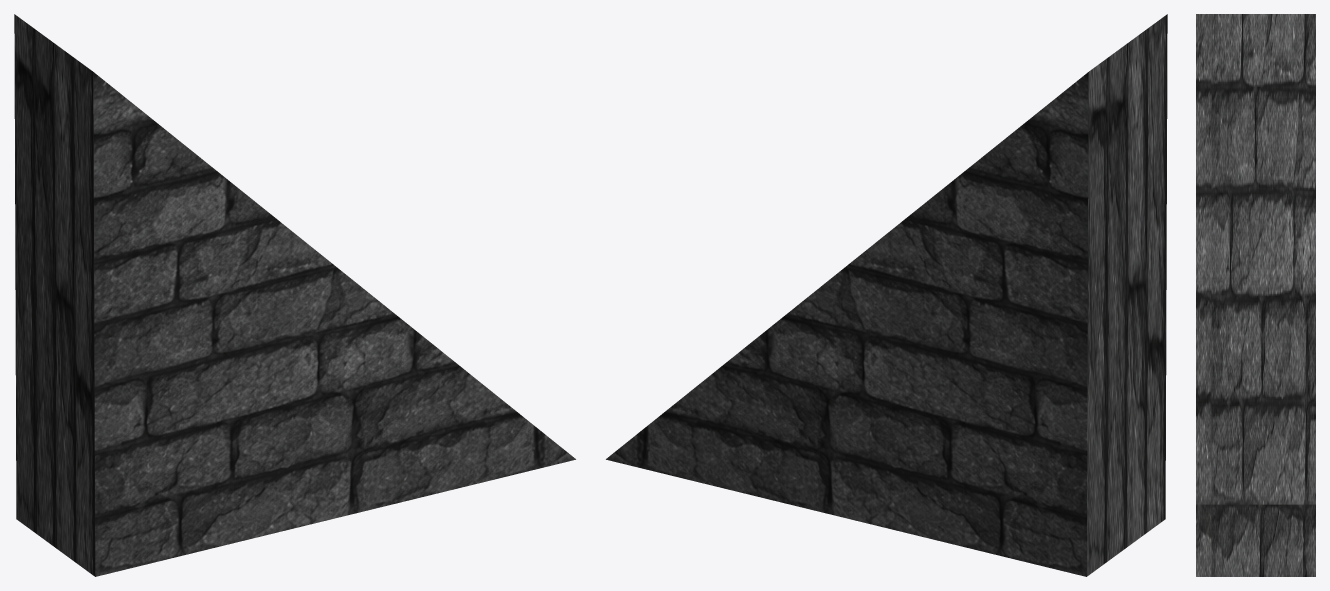
The model's file is halfwall45.glb.
The picture shows the model from 3 angles, left to right: view 1: azimuth 30°, elevation 25°; view 2: azimuth 150°, elevation 25°; view 3: azimuth 270°, elevation 25°; orthographic projection. The views are drawn at different scales.
Parts seen in each view (by area): view 1: Plane; view 2: Plane; view 3: Plane.
Boxes of the visible parts, x1=… form: Plane: x1=14, y1=14, x2=575, y2=576; Plane: x1=606, y1=14, x2=1167, y2=576; Plane: x1=1196, y1=14, x2=1315, y2=576.
Size of the model in its own units: 0.6405 by 0.6405 by 0.1812.
1 material, 1 textured.
